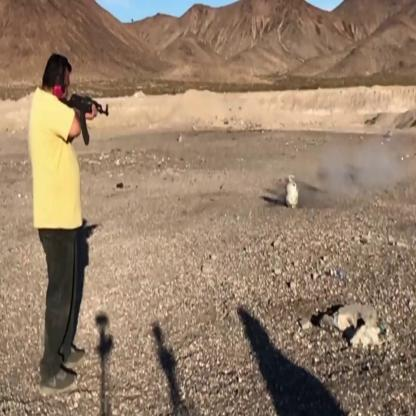long weapon: (55, 88, 113, 146)
